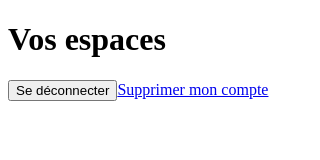
Test: page de mes espaces (ADR 0044 §6) › mène à la suppression du compte
The width and height of the screenshot is (320, 160).
Click the link "Supprimer mon compte". click: (193, 89)
box: top-left (117, 81), bottom-right (268, 98)
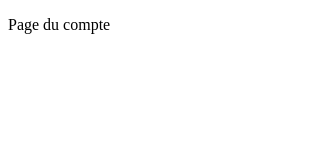
Expected: the text "Page du compte" is shown, top-left (8, 16), bottom-right (110, 33)
